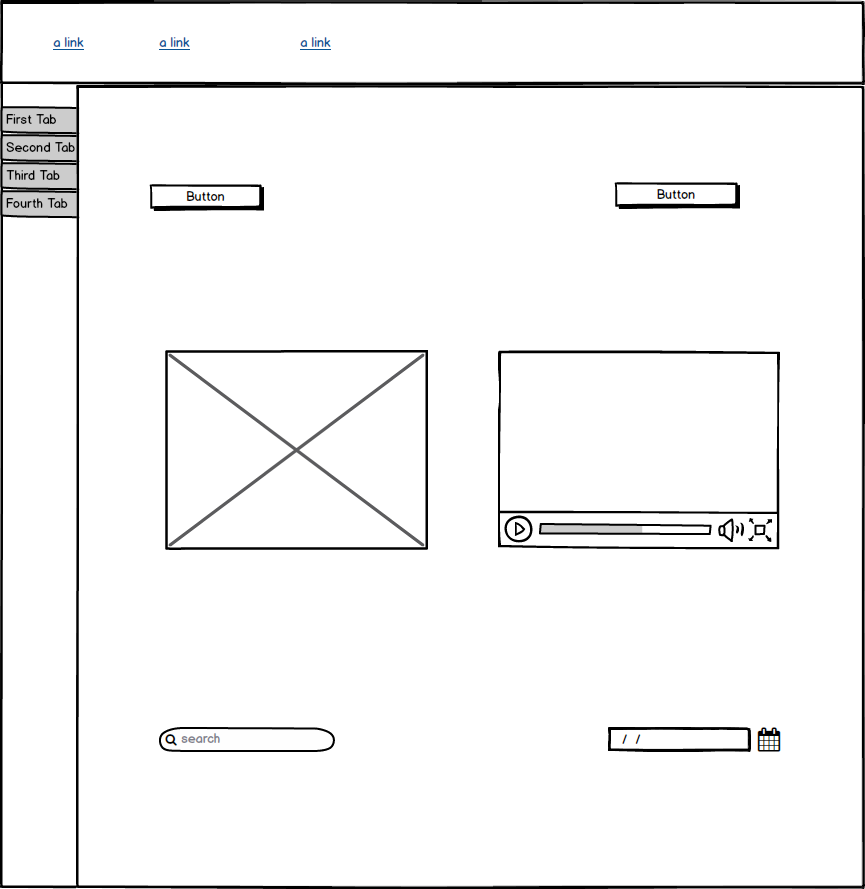button: (610, 177, 745, 215), (144, 178, 268, 219)
date_picker: (595, 720, 784, 761)
image: (161, 342, 434, 552)
navlink: (149, 29, 201, 59), (294, 28, 343, 56), (48, 29, 91, 56)
search: (152, 721, 344, 762)
sidebar: (1, 94, 88, 228)
video: (490, 347, 787, 558)
